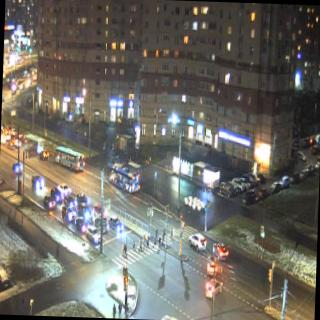large-vehicle: (106, 158, 141, 194), (53, 144, 87, 174), (25, 133, 44, 157)
small-vehicle: (186, 230, 208, 254), (204, 276, 223, 300), (212, 238, 228, 262), (203, 254, 220, 276), (58, 178, 72, 200), (86, 225, 101, 244), (76, 190, 88, 212), (31, 172, 44, 191), (78, 204, 90, 224), (61, 206, 75, 223), (93, 219, 106, 235), (108, 216, 120, 233), (50, 186, 61, 203), (44, 195, 54, 212), (76, 217, 86, 233), (12, 160, 22, 173)
